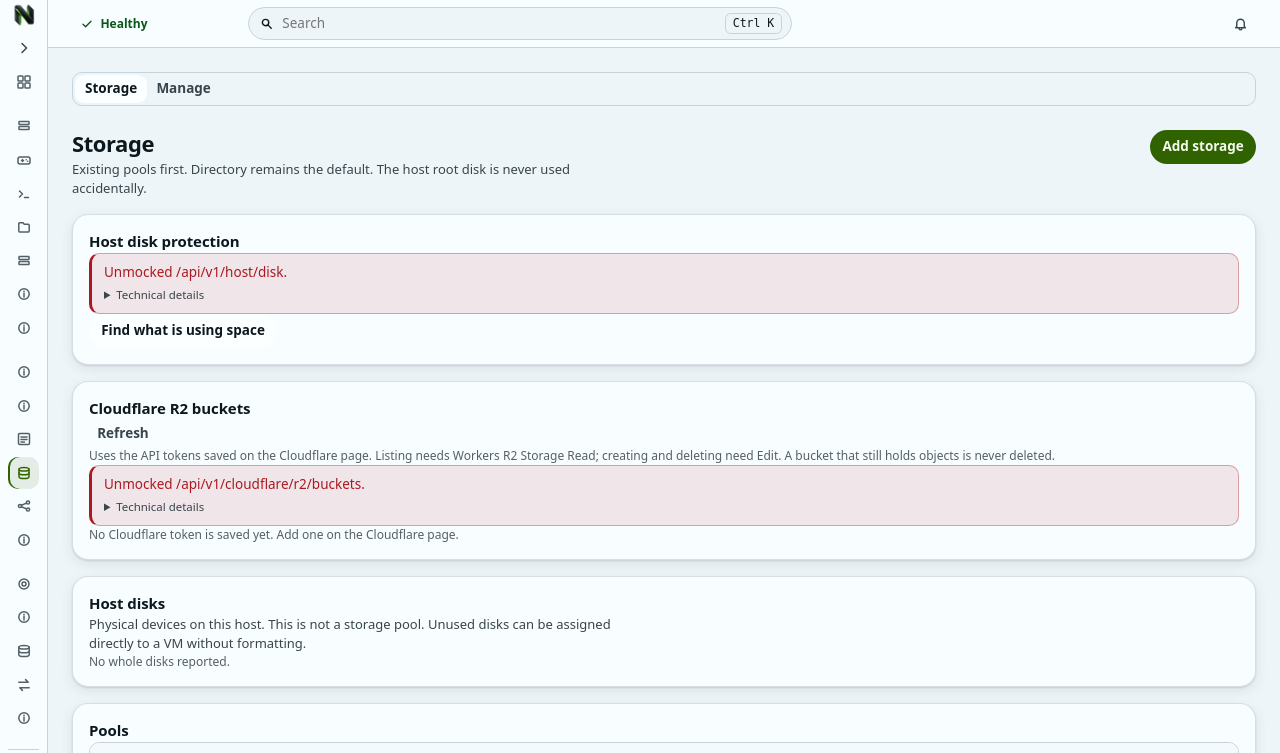
Test case: App › does not claim ZFS userland is missing when the runtime is installed
The image size is (1280, 753).
Step 1. Click the button "Add storage" → [1203, 147], box [1150,130,1256,164]
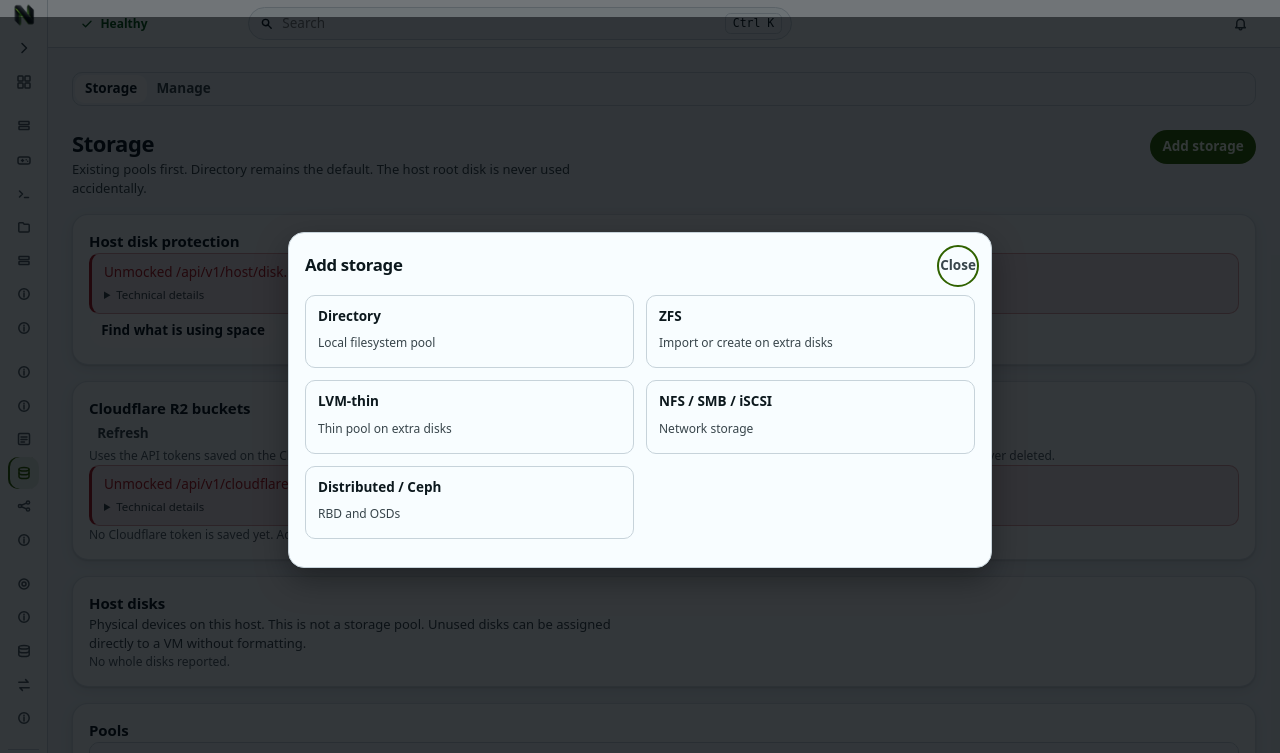
Step 2. Click the button "ZFS Import or create on extra disks" → [810, 331], box [646,295,975,368]
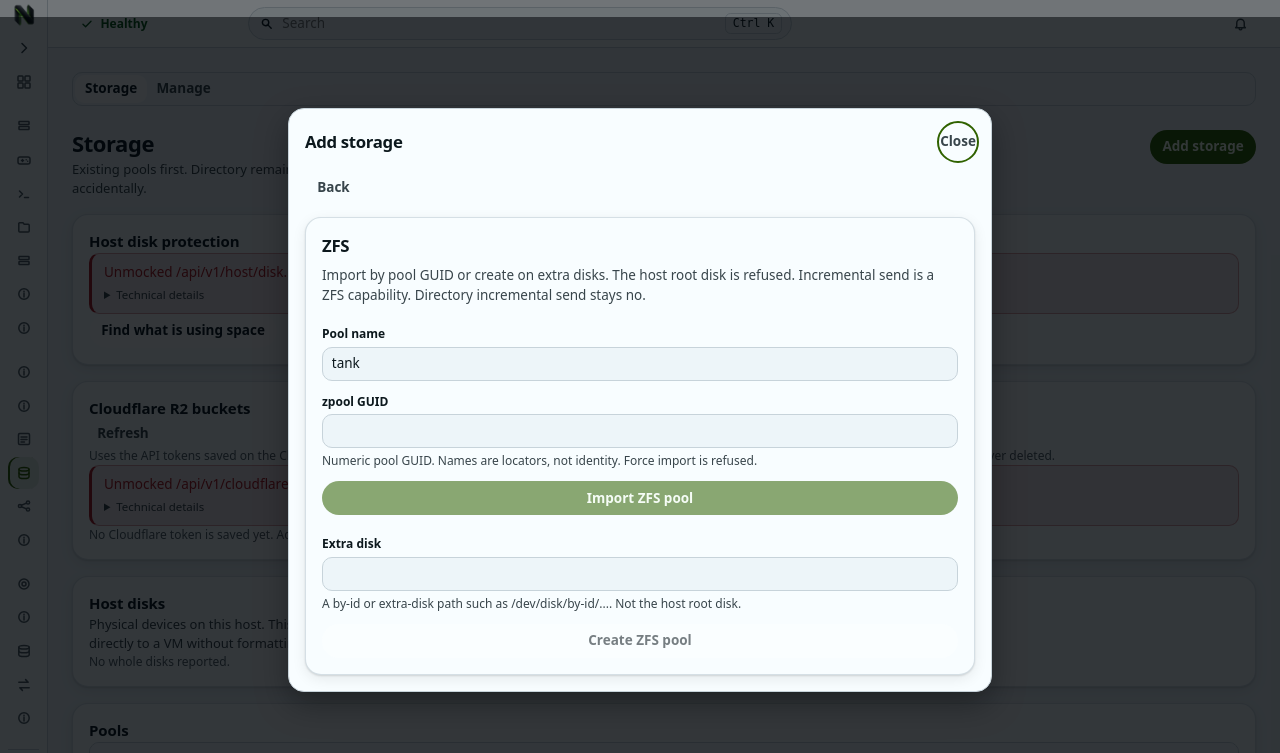
expect the heading "ZFS" is shown: met, box [322,234,349,257]
